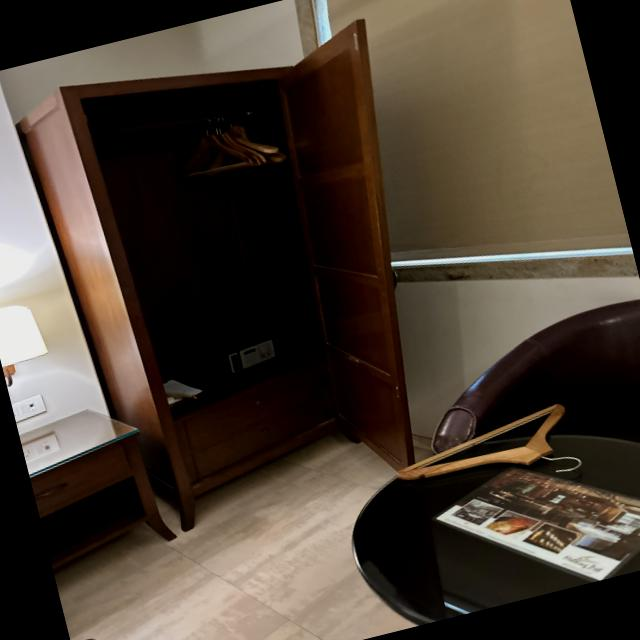mess: (299, 370, 640, 640)
